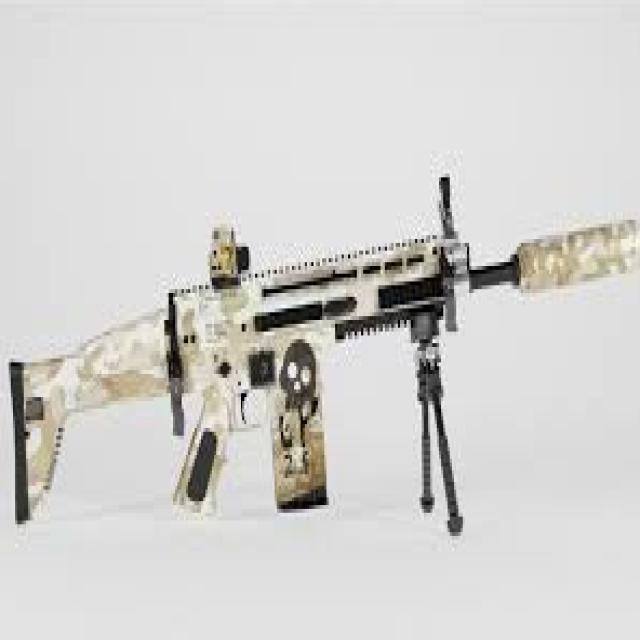Gun: (2, 154, 640, 566)
